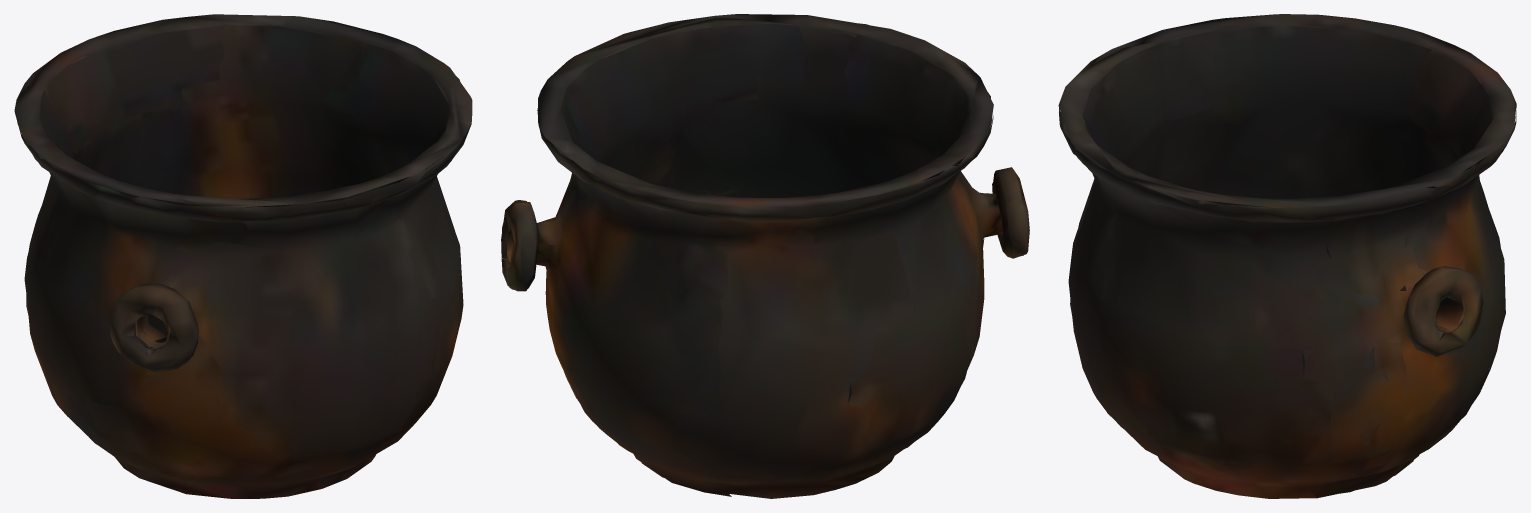
File: olla_escoria.movil.glb
3 renders of one model, left to right at view 1: azimuth 30°, elevation 25°; view 2: azimuth 150°, elevation 25°; view 3: azimuth 270°, elevation 25°, orthographic.
Visible parts, largest first — view 1: geometry_0; view 2: geometry_0; view 3: geometry_0.
Boxes of the visible parts, x1,y1,x2,y2 form: geometry_0: (14,14,472,498); geometry_0: (501,14,1029,498); geometry_0: (1058,14,1516,498).
Size of the model in its own units: 2.1 by 1.68 by 2.1.
Materials: 1 (1 with a texture image).
